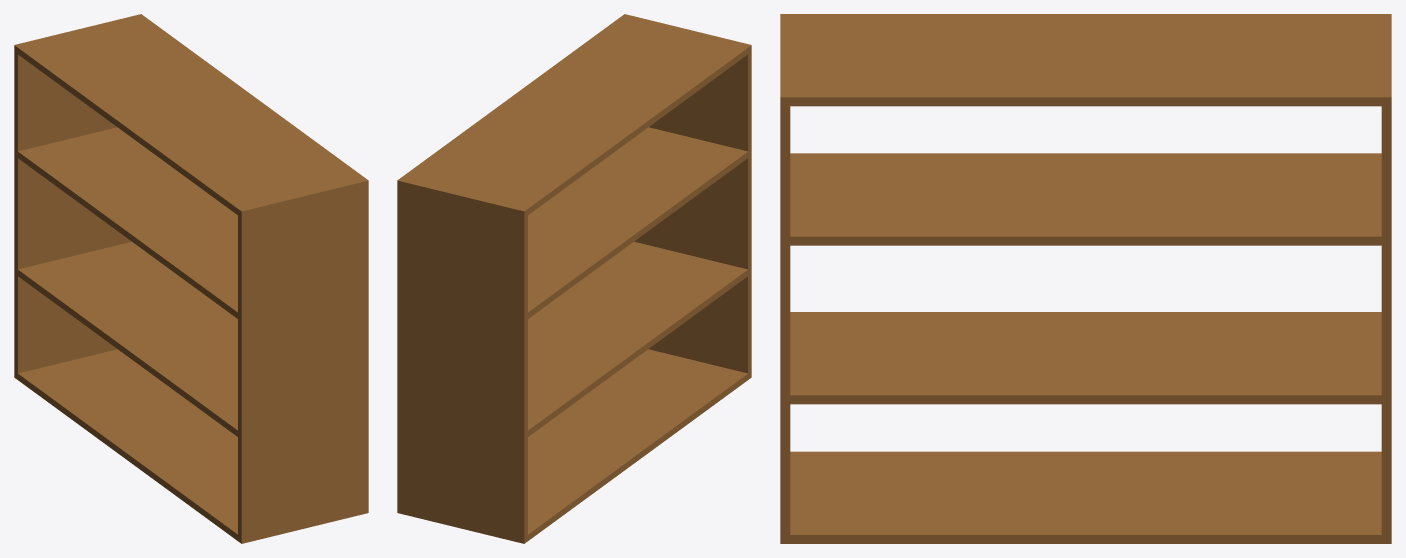
Rendered from shelf.fbx.
3 renders of one model, left to right at view 1: azimuth 30°, elevation 25°; view 2: azimuth 150°, elevation 25°; view 3: azimuth 270°, elevation 25°, orthographic. The views are drawn at different scales.
Visible parts, largest first — view 1: Cube, Cube.002, Cube.004, Cube.005, Cube.003, Cube.001; view 2: Cube.001, Cube.002, Cube.004, Cube.005, Cube.003, Cube; view 3: Cube.002, Cube.003, Cube.004, Cube.005, Cube, Cube.001.
Boxes of the visible parts, box(x1,y1,x2,y2) form: Cube: box(238, 178, 368, 543); Cube.002: box(18, 16, 364, 214); Cube.004: box(18, 241, 237, 436); Cube.005: box(18, 349, 237, 540); Cube.003: box(18, 127, 237, 318); Cube.001: box(14, 14, 144, 379); Cube.001: box(397, 178, 527, 543); Cube.002: box(401, 16, 747, 214); Cube.004: box(528, 241, 747, 436); Cube.005: box(528, 349, 747, 540); Cube.003: box(528, 127, 747, 318); Cube: box(621, 14, 751, 379); Cube.002: box(790, 14, 1381, 106); Cube.003: box(790, 153, 1381, 245); Cube.004: box(790, 312, 1381, 404); Cube.005: box(790, 451, 1381, 543); Cube: box(780, 14, 790, 543); Cube.001: box(1381, 14, 1391, 543).
Bounding box in the file's own units: 200 × 500 × 620.
